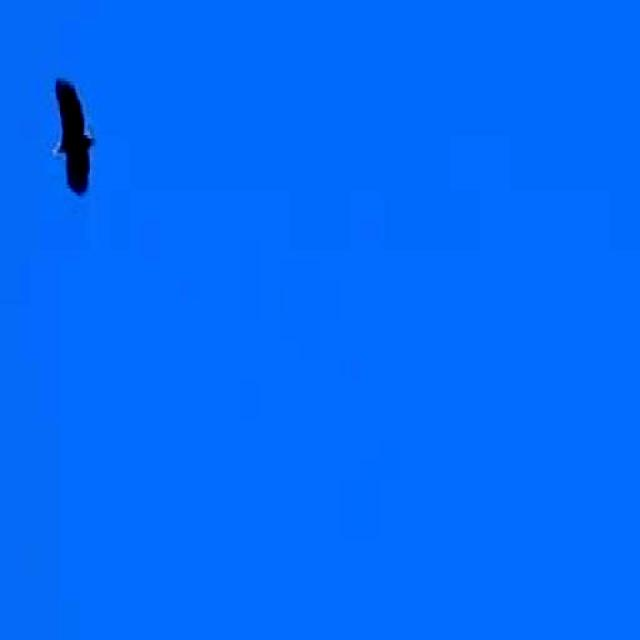airplane: (42, 75, 115, 212)
